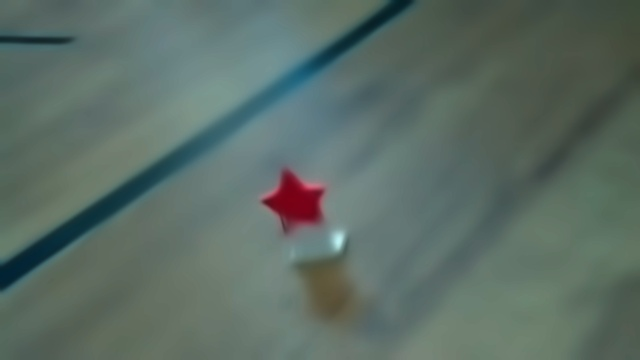star: (245, 169, 357, 267)
